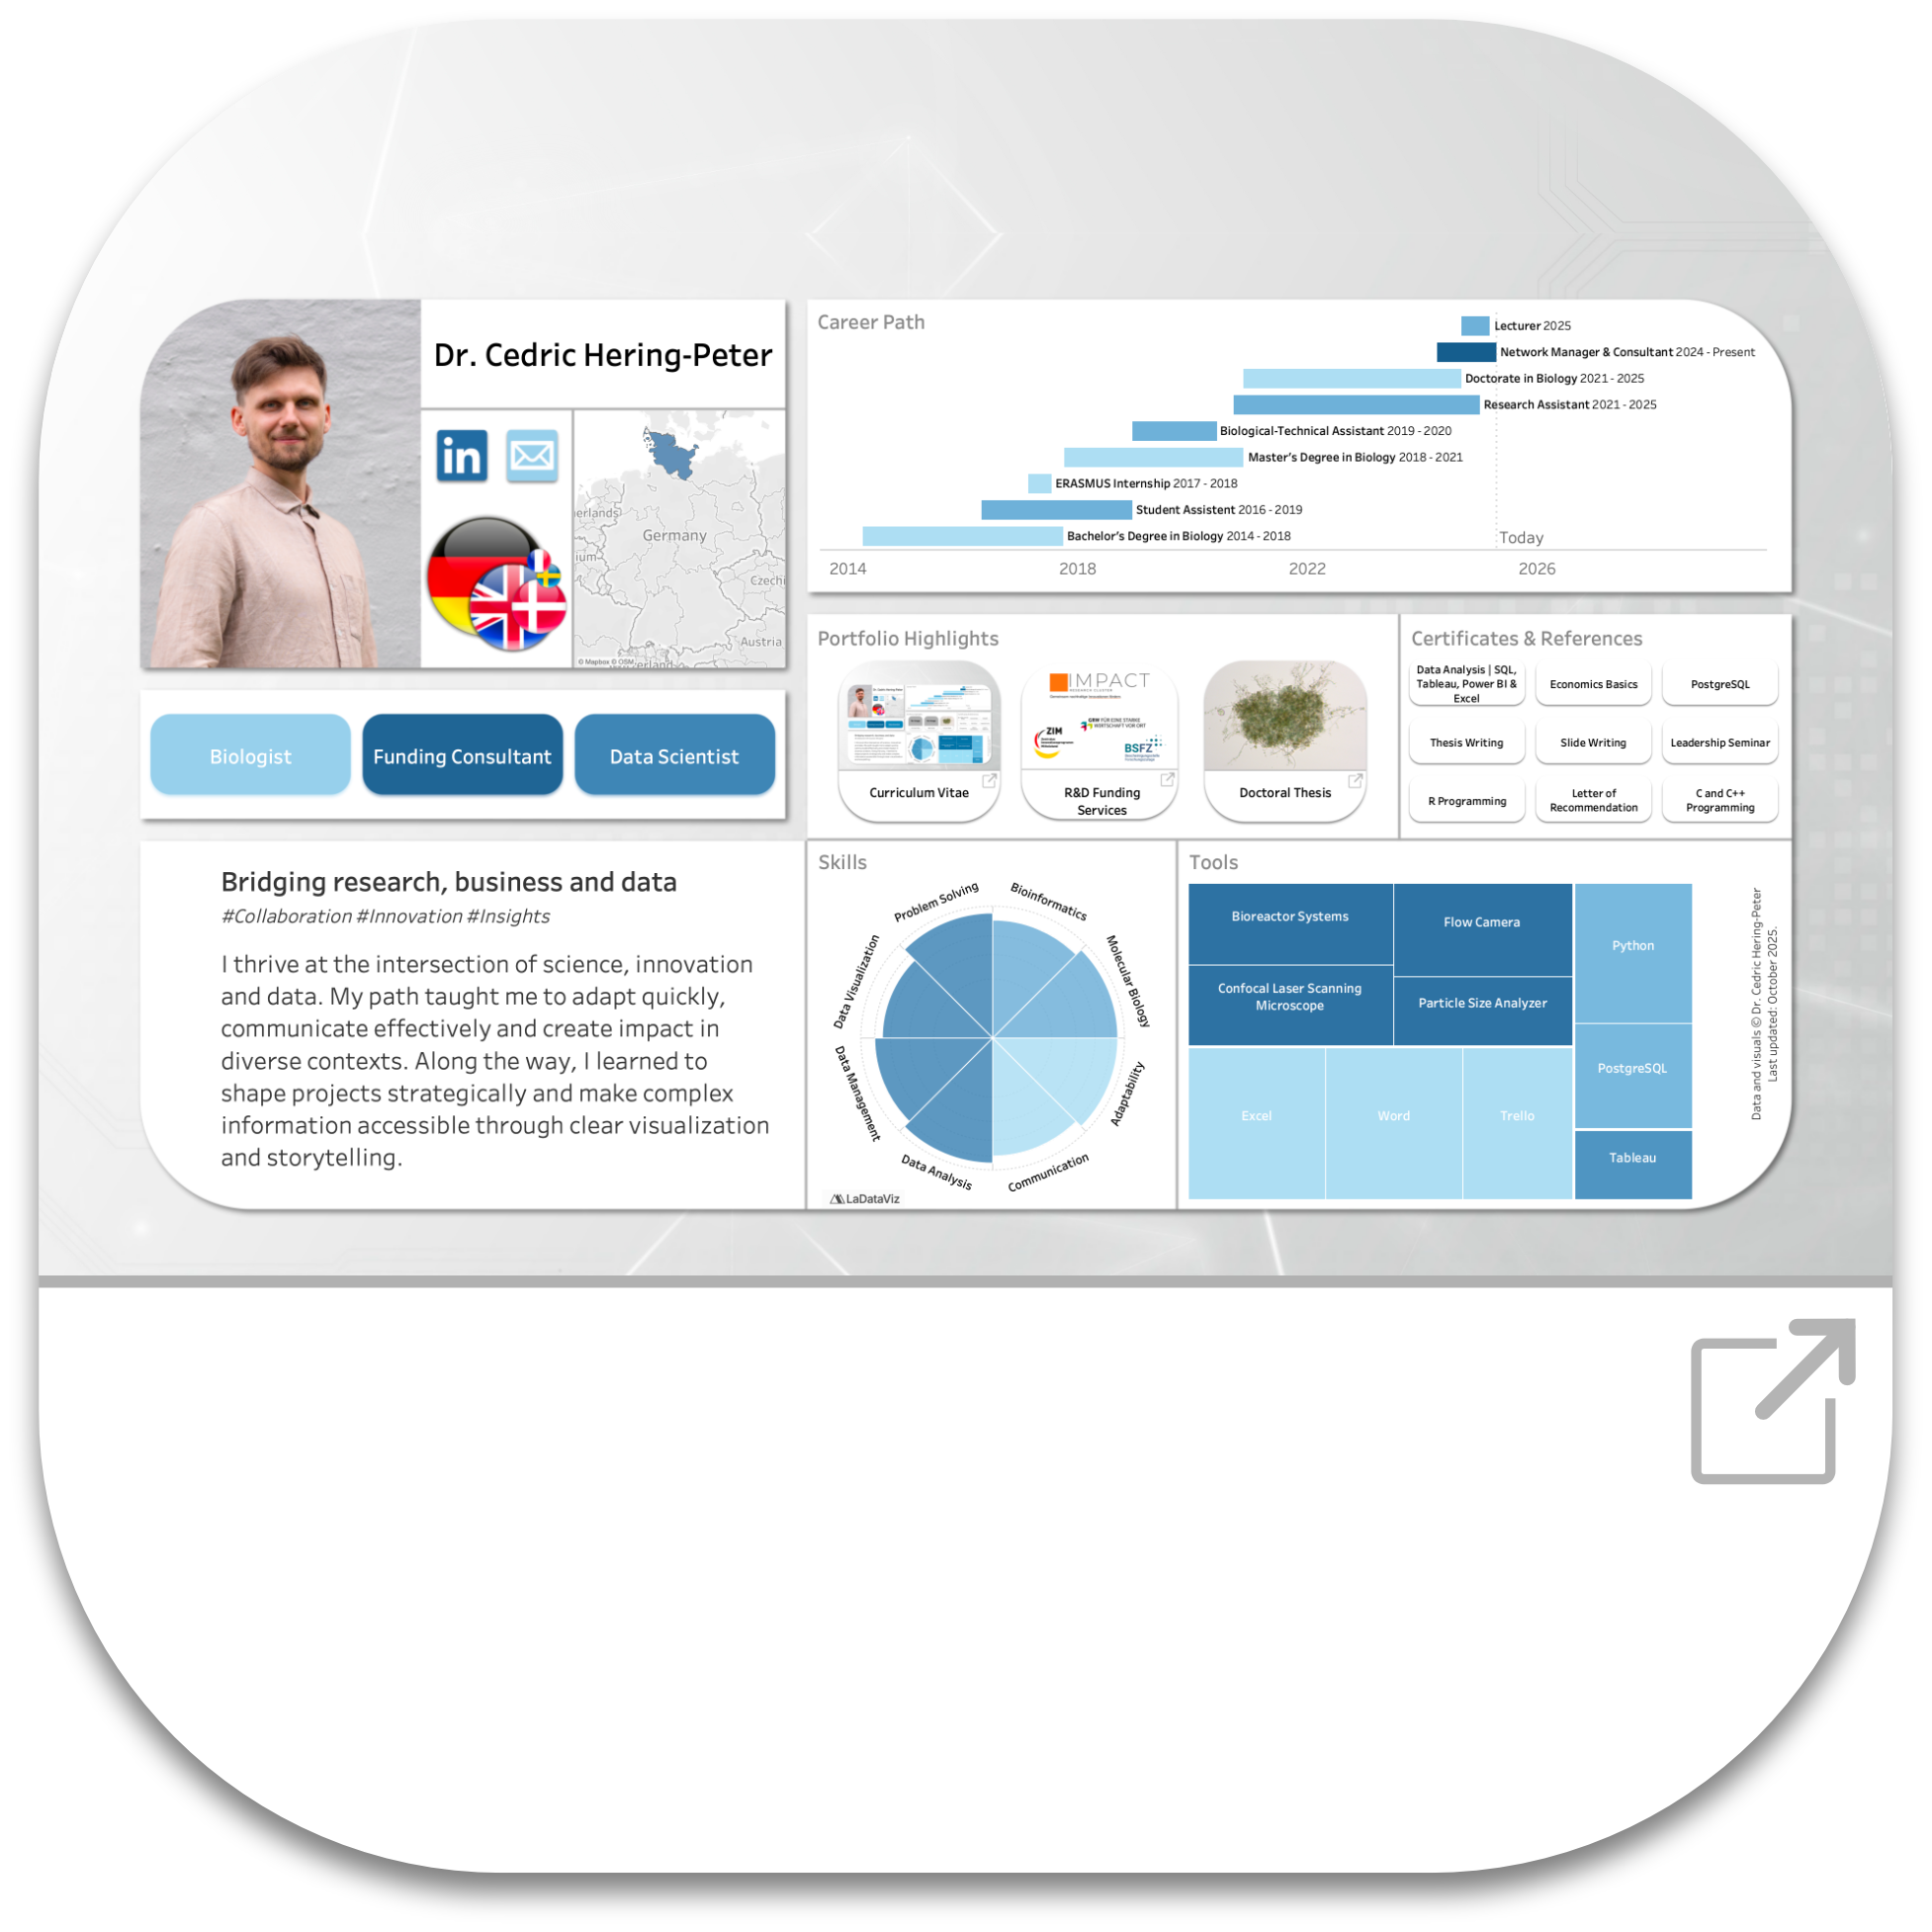

The dashboard page shown, as its layout file describes it:
{"tool":"tableau","page":{"name":"Dashboard_Visual-Resume","canvas":[1920,1080],"ordinal":0},"visuals":[{"type":"image","param":"Image/2021-06-08_rm380-15_cropped.jpg","box":[0,0,1920,1080]},{"type":"image","param":"Image/2026-06-02_Background-Panels.png","box":[50,50,1820,980]},{"type":"text","box":[401,74,373,109]},{"type":"text","box":[805,80,117,30]},{"type":"worksheet","title":"Timeline_Career-Path","mark":"Automatic","rows":["activity_title"],"cols":["start_date"],"box":[810,86,973,274]},{"type":"worksheet","title":"Map_Location","mark":"Multipolygon","box":[558,187,216,264]},{"type":"blank","box":[558,187,216,264]},{"type":"image","param":"Image/2025-12-18_Location-Pin.png","box":[636,190,25,25]},{"type":"image","param":"Image/2026-07-07_Icon_LinkedIn.png","box":[425,198,45,45]},{"type":"image","param":"Image/2026-01-09_Icon_Github.png","box":[487,198,45,45]},{"type":"image","param":"Image/2026-07-07_Icon_ORCID-iD.png","box":[425,253,45,45]},{"type":"image","param":"Image/2026-07-07_Icon_Scopus.png","box":[487,253,45,45]},{"type":"image","param":"Image/2026-04-10_Bubbles_Languages.png","box":[402,298,150,150]},{"type":"blank","box":[1581,319,208,45]},{"type":"text","box":[805,405,189,30]},{"type":"text","box":[1415,405,260,30]},{"type":"worksheet","title":"Card-Row_Portfolio-Highlights","mark":"Shape","cols":["project_title"],"box":[818,436,567,188]},{"type":"worksheet","title":"Card-Grid_Certificates","mark":"Shape","box":[1410,437,395,185]},{"type":"worksheet","title":"Buttons_Domain-Filter","mark":"Shape","cols":["domain_id"],"box":[116,482,654,119]},{"type":"blank","box":[112,628,682,380]},{"type":"worksheet","title":"Pie_Skills","mark":"Pie","box":[1375,630,433,307]},{"type":"text","box":[806,635,100,30]},{"type":"text","box":[1383,635,100,30]},{"type":"worksheet","title":"Text_Domain-Subtitle","mark":"Automatic","rows":["domain_id"],"box":[190,636,575,50]},{"type":"worksheet","title":"Treemap_Tools","mark":"Automatic","box":[802,659,564,349]},{"type":"worksheet","title":"Text_Hashtags","mark":"Automatic","rows":["domain_id"],"box":[190,672,575,46]},{"type":"worksheet","title":"Text_Domain-Description","mark":"Automatic","rows":["domain_id"],"box":[190,717,575,274]},{"type":"text","box":[1393,948,357,52]}]}

Visuals, with their boxes on the page's 1920x1080 design canvas (x1, y1, x2, y2). These are canvas units, not pixel positions in the 1932x1932 screenshot, which may show the page scaled, cropped or inside an application window:
image: 0/0/1920/1080
image: 50/50/1870/1030
text: 401/74/774/183
text: 805/80/922/110
"Timeline_Career-Path" worksheet: 810/86/1783/360
"Map_Location" worksheet (Multipolygon marks): 558/187/774/451
blank: 558/187/774/451
image: 636/190/661/215
image: 425/198/470/243
image: 487/198/532/243
image: 425/253/470/298
image: 487/253/532/298
image: 402/298/552/448
blank: 1581/319/1789/364
text: 805/405/994/435
text: 1415/405/1675/435
"Card-Row_Portfolio-Highlights" worksheet (Shape marks): 818/436/1385/624
"Card-Grid_Certificates" worksheet (Shape marks): 1410/437/1805/622
"Buttons_Domain-Filter" worksheet (Shape marks): 116/482/770/601
blank: 112/628/794/1008
"Pie_Skills" worksheet (Pie marks): 1375/630/1808/937
text: 806/635/906/665
text: 1383/635/1483/665
"Text_Domain-Subtitle" worksheet: 190/636/765/686
"Treemap_Tools" worksheet: 802/659/1366/1008
"Text_Hashtags" worksheet: 190/672/765/718
"Text_Domain-Description" worksheet: 190/717/765/991
text: 1393/948/1750/1000
